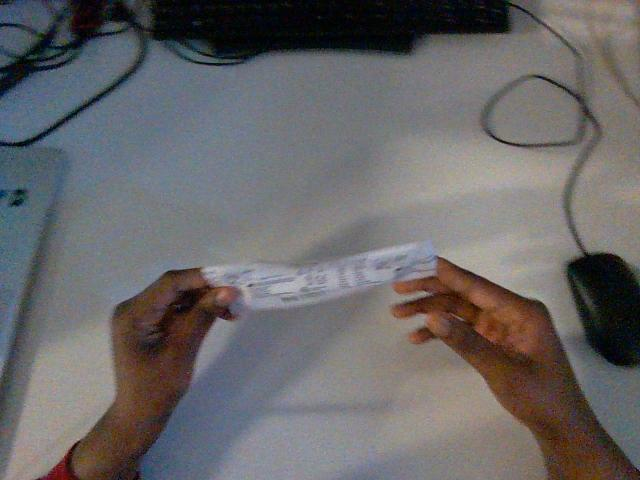syringe: (202, 242, 436, 309)
